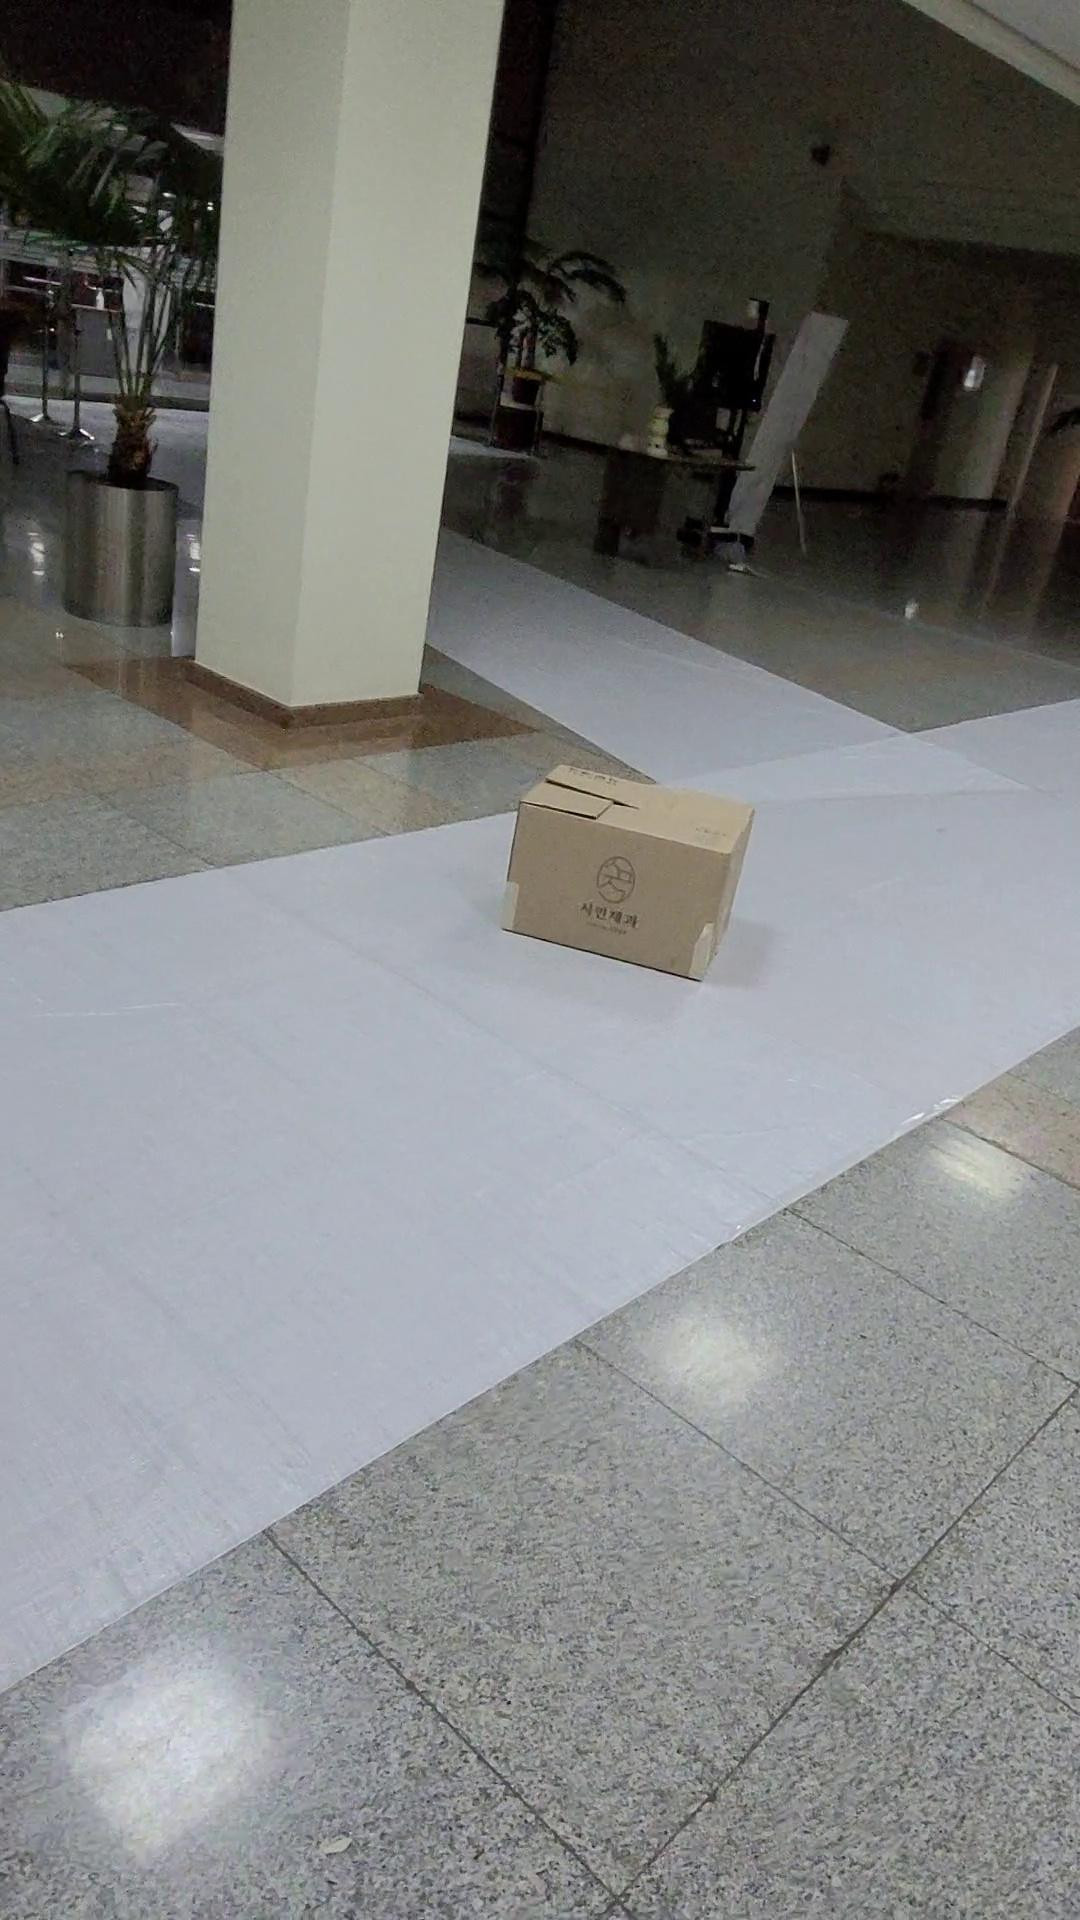Box: (463, 725, 785, 1010)
